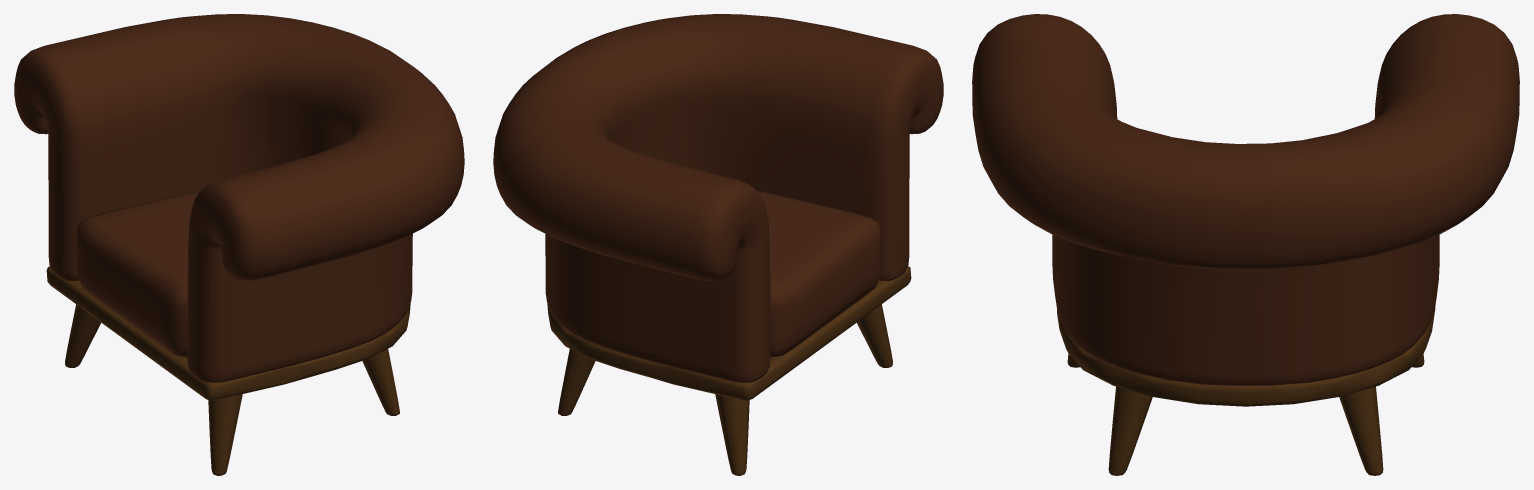
File: armchair_09_leather_brown.fbx
3 views of the same model, side by side, from view 1: azimuth 30°, elevation 25°; view 2: azimuth 150°, elevation 25°; view 3: azimuth 270°, elevation 25° (orthographic). The views are drawn at different scales.
Visible parts, largest first — view 1: armchair_09_leather_brown; view 2: armchair_09_leather_brown; view 3: armchair_09_leather_brown.
Boxes of the visible parts, left/top/right/bottom form: armchair_09_leather_brown: left=14, top=14, right=464, bottom=475; armchair_09_leather_brown: left=493, top=14, right=943, bottom=475; armchair_09_leather_brown: left=972, top=14, right=1519, bottom=475.
Bounding box in the file's own units: 106 × 102 × 145.
Materials: 1 (1 with a texture image).
